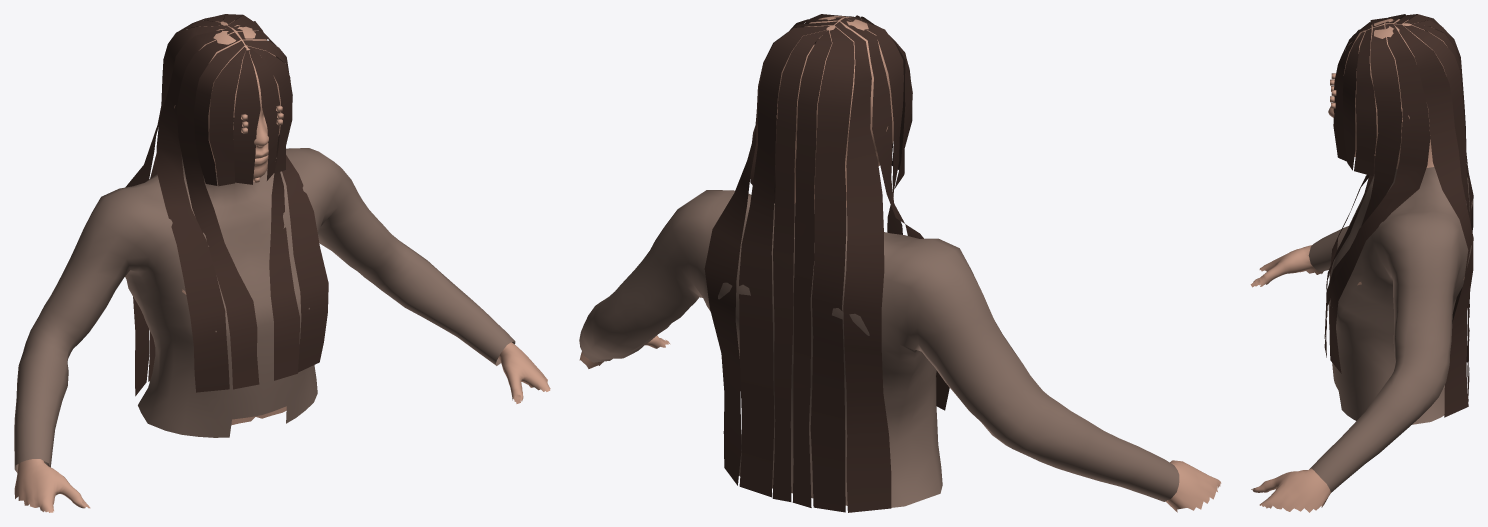
The model's file is archivista_v39.glb.
The picture shows the model from 3 angles, left to right: view 1: azimuth 30°, elevation 25°; view 2: azimuth 150°, elevation 25°; view 3: azimuth 270°, elevation 25°; orthographic projection. The views are drawn at different scales.
Parts seen in each view (by area): view 1: ARCHIVISTA_MEZZO_BUSTO_V39; view 2: ARCHIVISTA_MEZZO_BUSTO_V39; view 3: ARCHIVISTA_MEZZO_BUSTO_V39.
Part boxes in pixels (bbox=[...]): ARCHIVISTA_MEZZO_BUSTO_V39: bbox=[14, 14, 550, 512]; ARCHIVISTA_MEZZO_BUSTO_V39: bbox=[579, 14, 1221, 512]; ARCHIVISTA_MEZZO_BUSTO_V39: bbox=[1250, 14, 1473, 512].
Bounding box in the file's own units: 0.9428 × 0.6641 × 0.3599.
